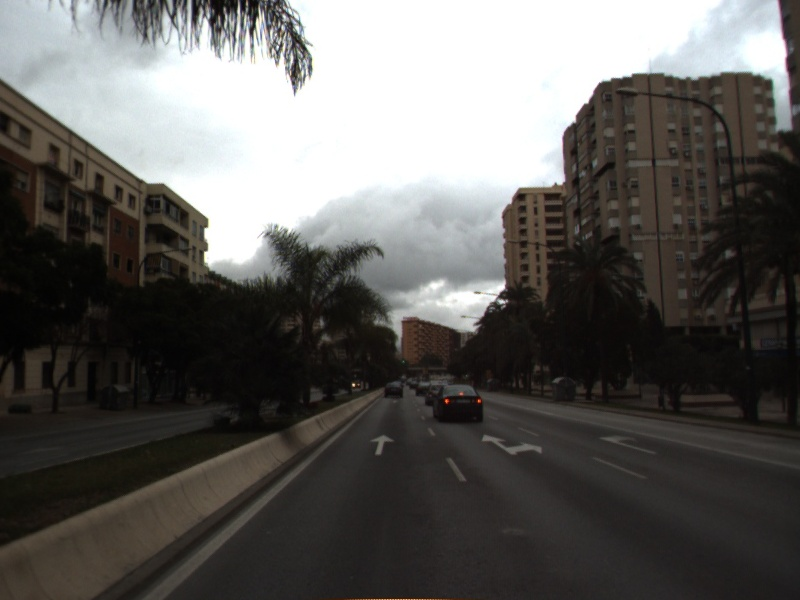RIGHT: (596, 432, 658, 456)
STRAIGHT: (368, 432, 397, 457)
STRAIGHT_RIGHT: (479, 432, 544, 457)
